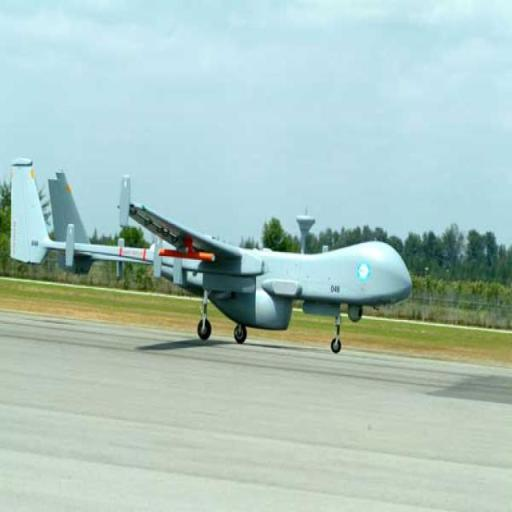uav: (8, 154, 416, 368)
